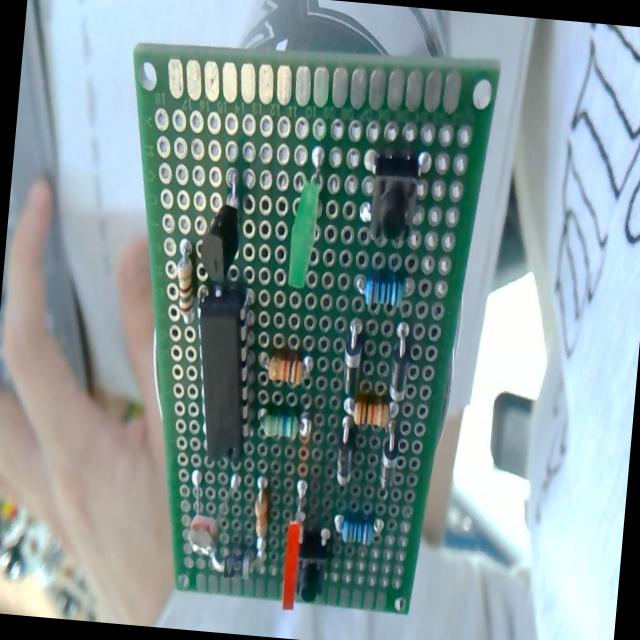IC: (188, 284, 258, 465)
cds: (184, 467, 224, 557)
diode: (212, 544, 262, 584), (388, 324, 412, 402), (340, 323, 364, 398), (334, 421, 357, 486), (379, 426, 401, 488)
led: (284, 150, 332, 297), (278, 483, 308, 613)
resistor: (172, 247, 200, 323), (360, 268, 406, 314), (250, 477, 272, 560), (264, 350, 312, 388), (333, 512, 382, 546), (350, 398, 390, 431), (259, 411, 298, 441)
switch: (366, 150, 422, 248), (292, 528, 328, 604)
transistor: (198, 165, 246, 284)
